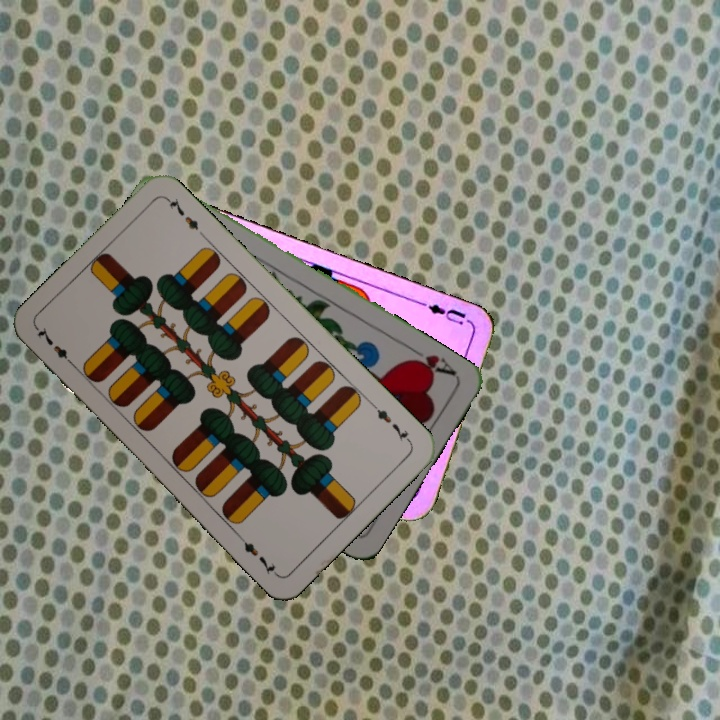E7: (33, 323, 79, 371), (368, 399, 414, 446)
EU: (419, 299, 469, 328)
HA: (404, 342, 460, 379)
